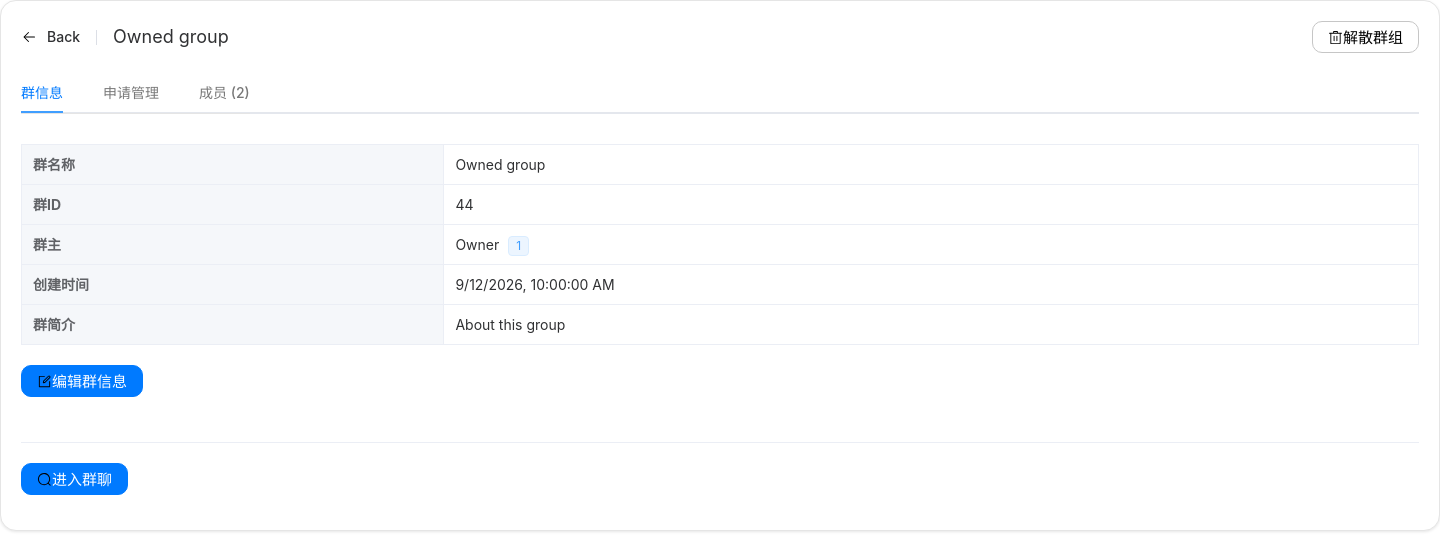
it: routed group page journeys with real API responses › refreshes visible members after a successful HTTP 204 kick
What coordinates should you click on to do the following:
click the tab "成员 (2)"
I would click on:
 (224, 93)
Its box is x1=199 y1=84 x2=250 y2=101.
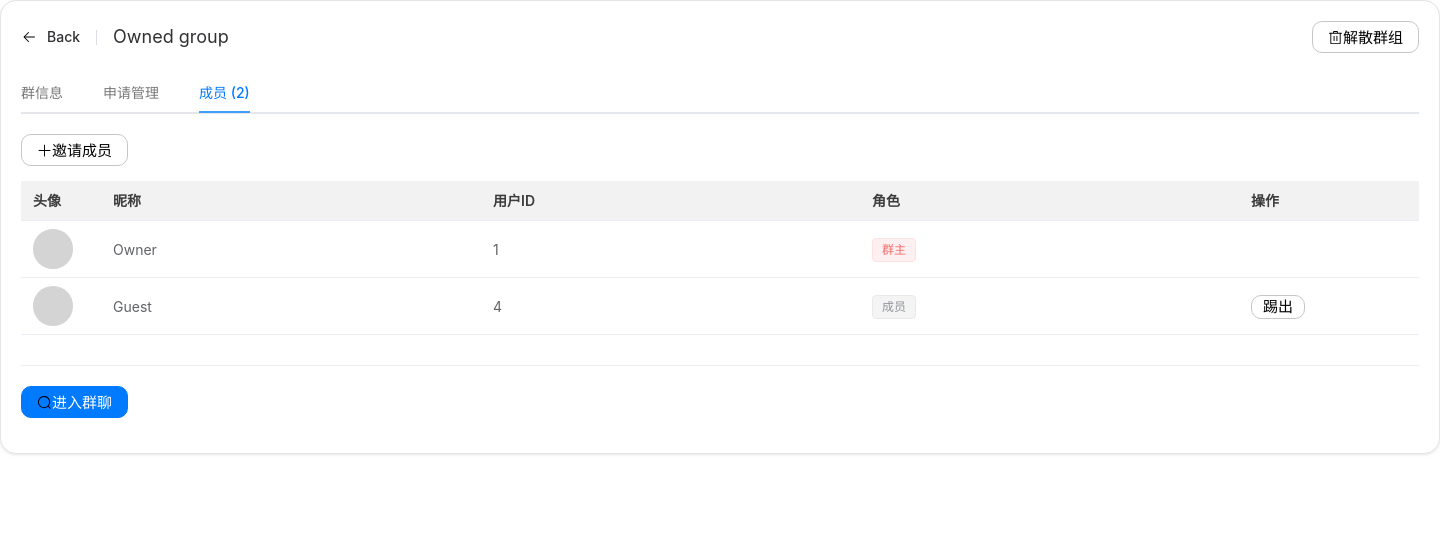
What coordinates should you click on to do the following:
click the button "踢出"
I would click on:
 (1278, 307)
Its box is x1=1251 y1=295 x2=1305 y2=319.
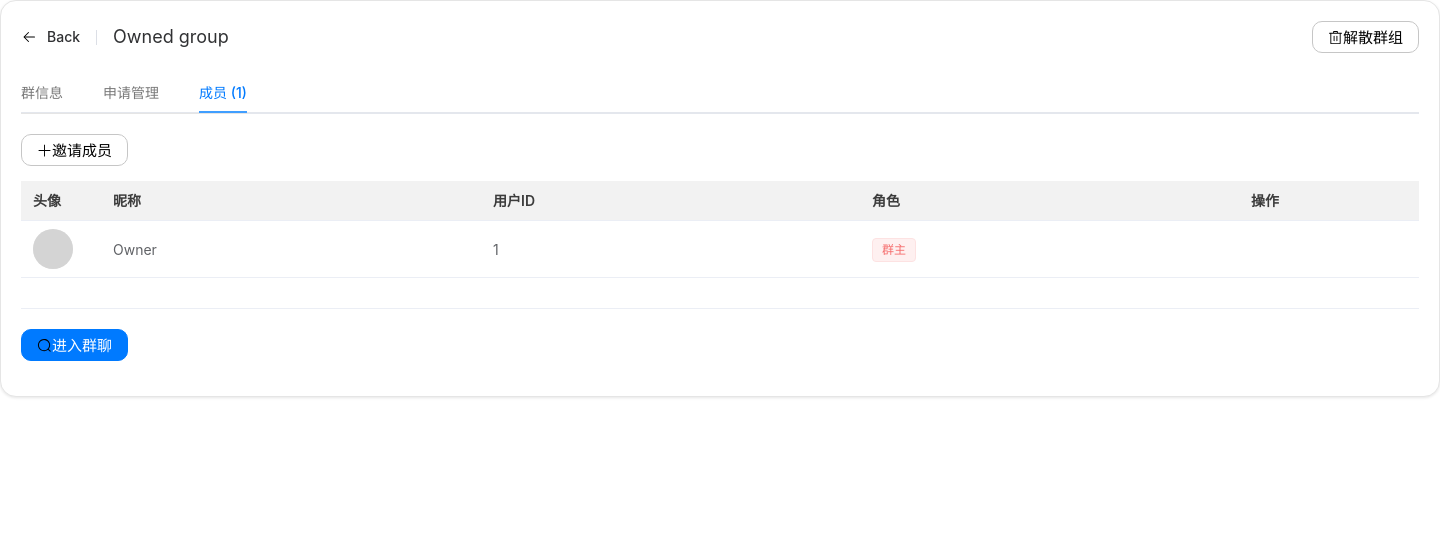
Result: the text with class "members-table" no longer shows "Guest"
